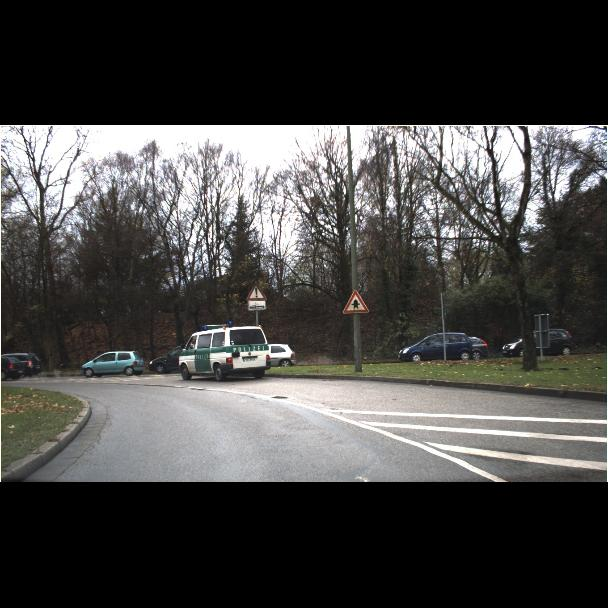priority at next intersection: (245, 281, 370, 314)
